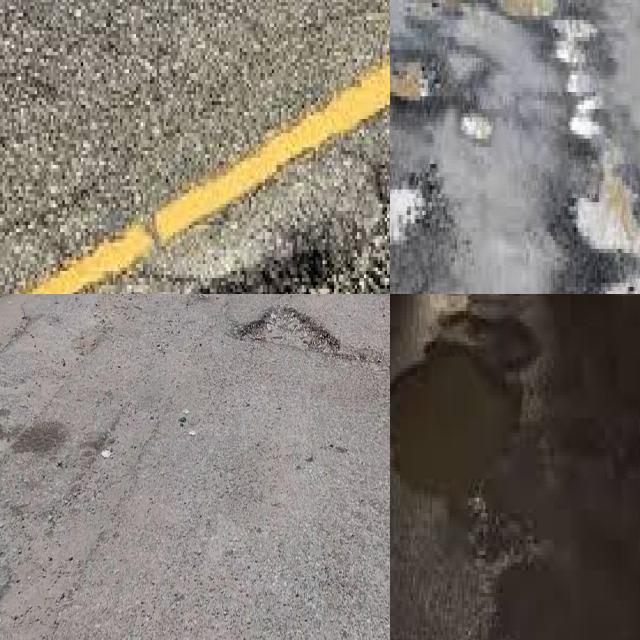Pothole: (390, 294, 540, 482), (238, 300, 344, 359), (555, 20, 601, 151), (578, 168, 636, 253), (390, 190, 424, 243), (390, 62, 428, 99), (497, 0, 557, 20), (461, 114, 492, 142)
